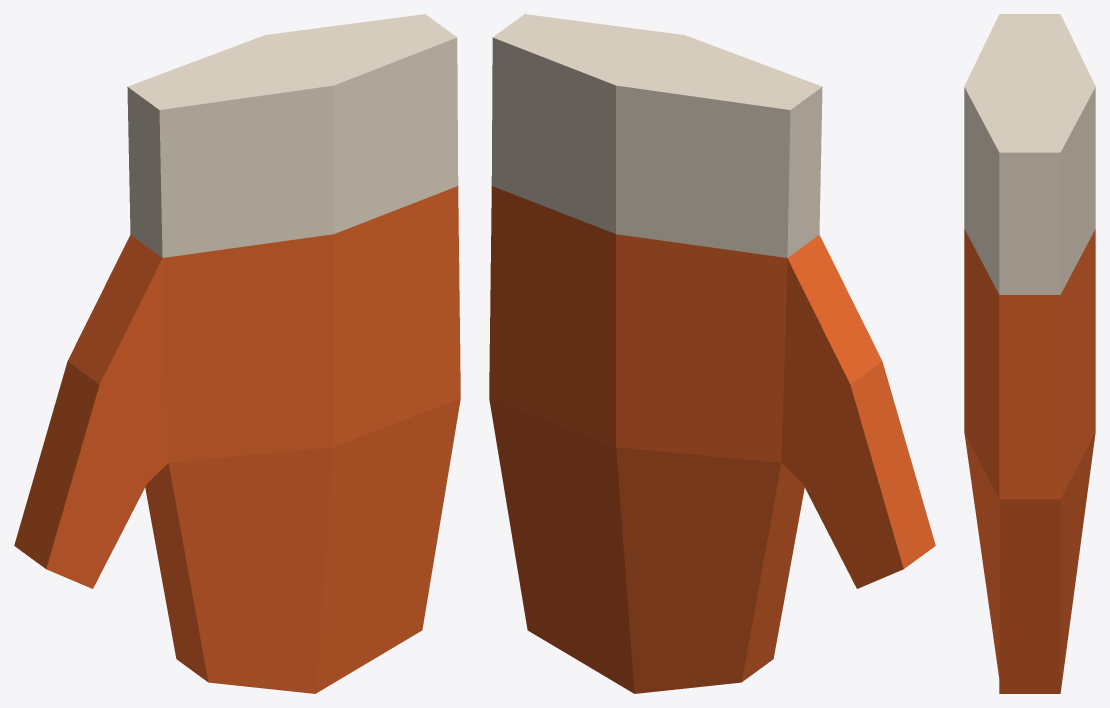
File: ovenGlove3_PLY.fbx
3 views of the same model, side by side, from view 1: azimuth 30°, elevation 25°; view 2: azimuth 150°, elevation 25°; view 3: azimuth 270°, elevation 25° (orthographic). The views are drawn at different scales.
Visible parts, largest first — view 1: ovenGlove3_PLY; view 2: ovenGlove3_PLY; view 3: ovenGlove3_PLY.
Boxes of the visible parts, bbox=[...] form: ovenGlove3_PLY: bbox=[14, 14, 460, 693]; ovenGlove3_PLY: bbox=[489, 14, 935, 693]; ovenGlove3_PLY: bbox=[964, 14, 1095, 693].
Bounding box in the file's own units: 0.8493 × 1.22 × 0.2444.
